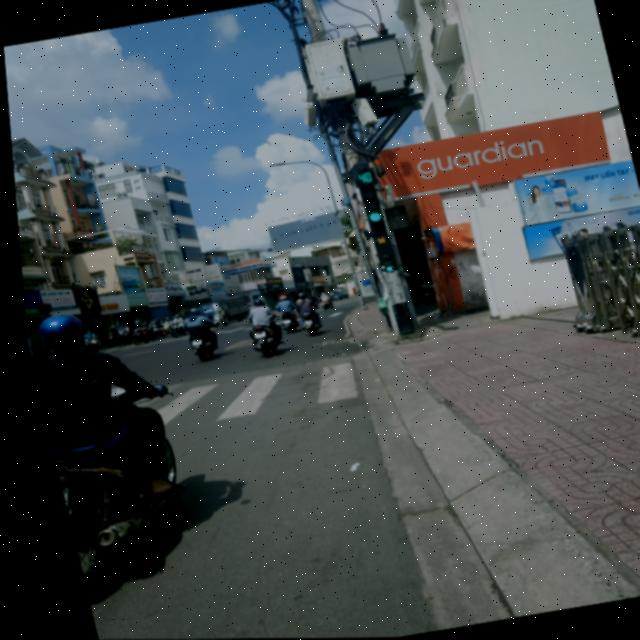Green: (350, 182, 388, 231), (369, 246, 398, 273)
